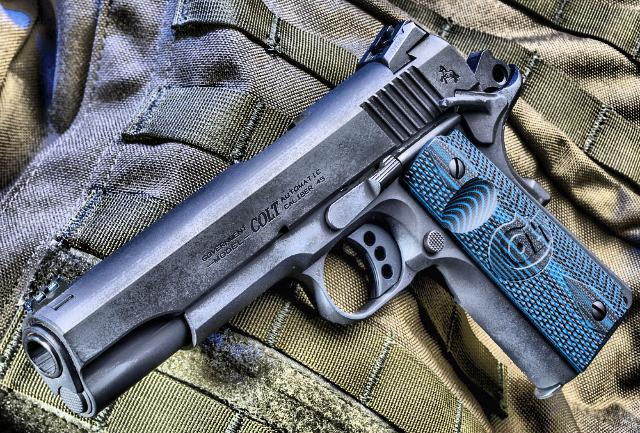pistol: (23, 25, 625, 423)
